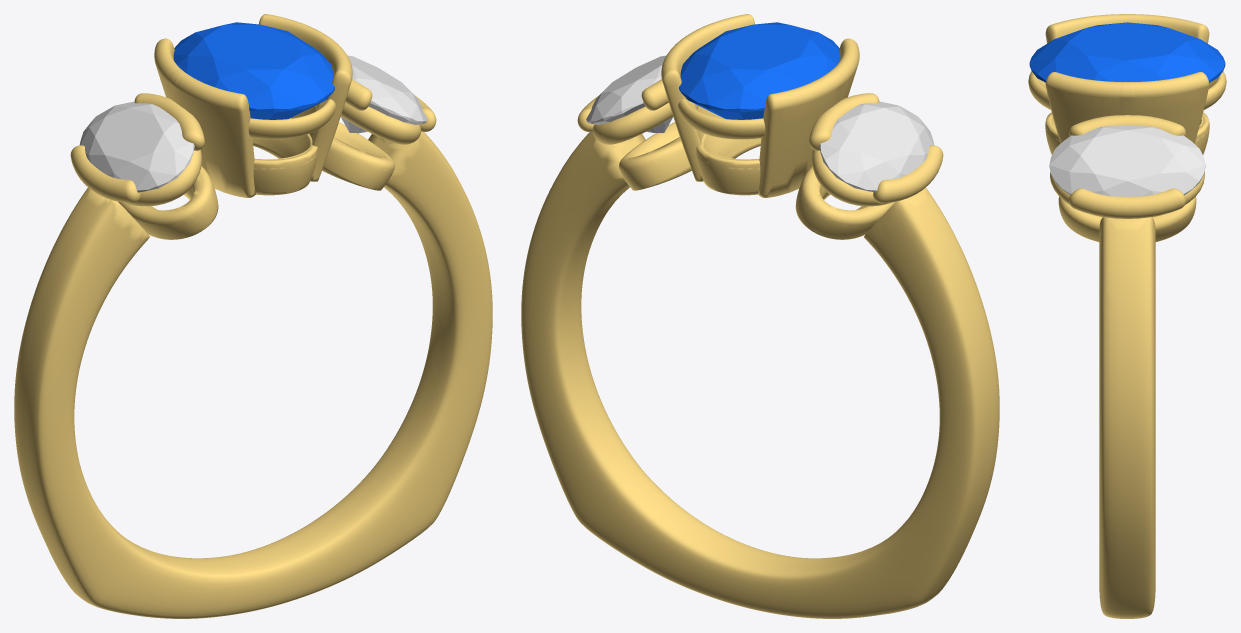
File: bluesapphire-oval-yellowgold-halfmoonbezel-europeanshank-3stone.glb
3 views of the same model, side by side, from view 1: azimuth 30°, elevation 25°; view 2: azimuth 150°, elevation 25°; view 3: azimuth 270°, elevation 25° (orthographic). The views are drawn at different scales.
Parts seen in each view (by area): view 1: metal, stone.003, side.006, side.007; view 2: metal, stone.003, side.006, side.007; view 3: metal, side.007, stone.003.
Boxes of the visible parts, x1,y1,x2,y2 form: metal: (14, 14, 492, 618); stone.003: (173, 22, 334, 119); side.006: (79, 101, 194, 192); side.007: (340, 55, 427, 133); metal: (521, 14, 999, 618); stone.003: (679, 22, 840, 119); side.006: (819, 101, 934, 192); side.007: (586, 55, 673, 132); metal: (1028, 14, 1226, 618); side.007: (1049, 125, 1205, 196); stone.003: (1029, 22, 1225, 82).
Bounding box in the file's own units: 20.1 × 23.21 × 7.75.
